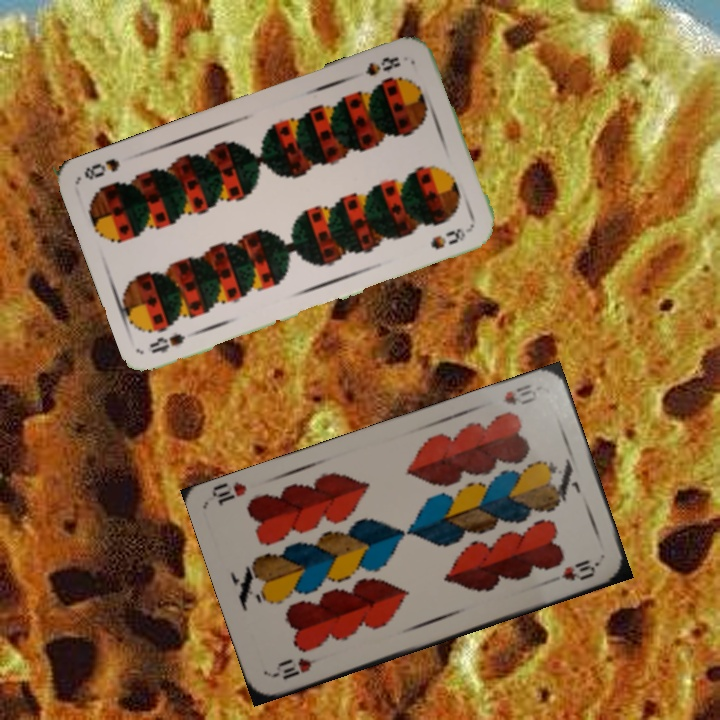H10: (269, 653, 326, 683), (499, 380, 540, 408)
S8: (145, 326, 202, 356), (361, 52, 404, 79)
